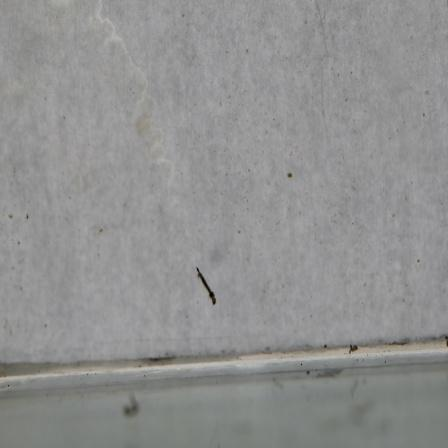Jentik-Nyamuk: (193, 265, 218, 308)
